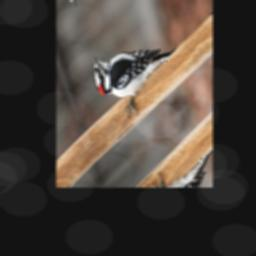Woodpecker: (87, 0, 185, 138)
